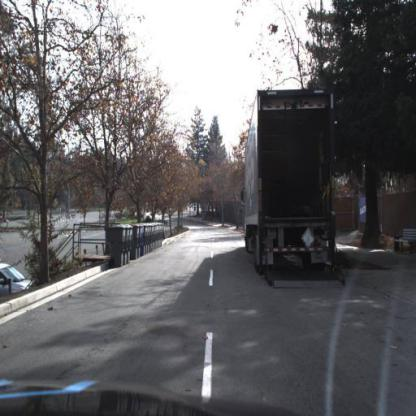truck: (240, 81, 345, 296)
